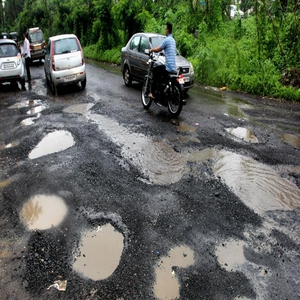pothole: (67, 218, 129, 280), (18, 190, 76, 233), (153, 240, 194, 300), (27, 126, 79, 159), (214, 232, 245, 274), (224, 123, 259, 148), (9, 100, 48, 122)
